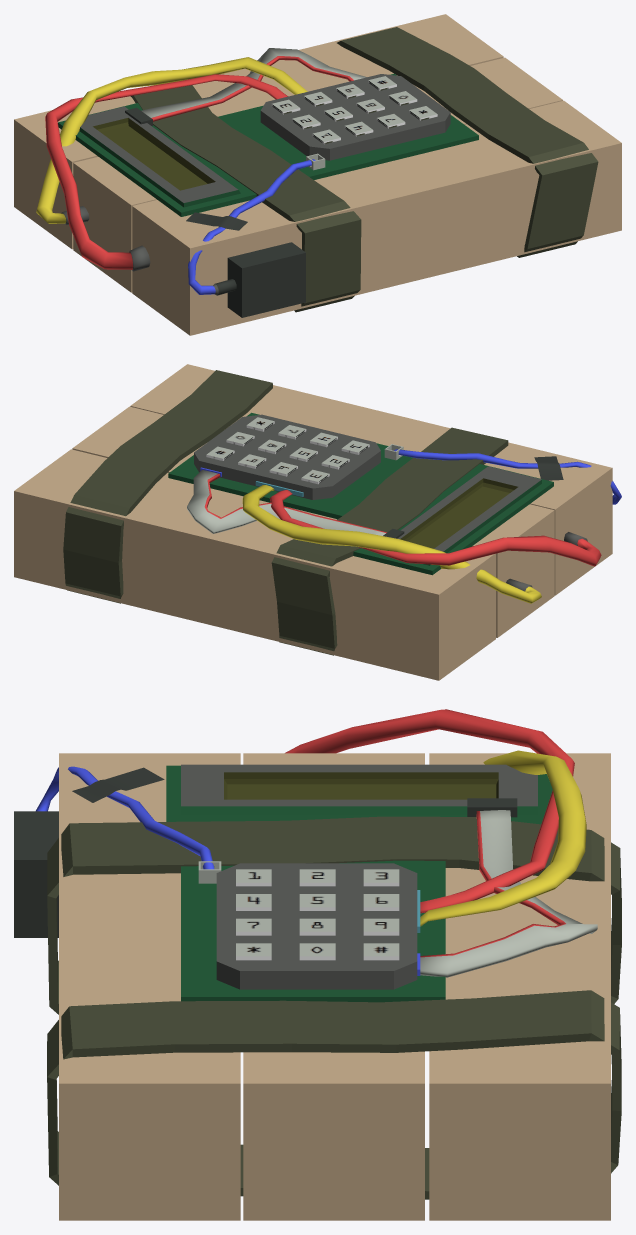
3 views of the same model, one above another, from view 1: azimuth 30°, elevation 25°; view 2: azimuth 150°, elevation 25°; view 3: azimuth 270°, elevation 25° (orthographic). The views are drawn at different scales.
Visible parts, largest first — view 1: Cube.004, Plane.002, Plane, Cylinder, Cube.003, Cylinder.001, Plane.015, Plane.003, Cylinder.002, Plane.004; view 2: Cube.004, Plane.002, Plane, Cylinder.001, Cylinder, Plane.015, Plane.003, Cylinder.002, Plane.004; view 3: Cube.004, Plane.002, Plane, Cylinder, Plane.015, Plane.003, Cylinder.001, Cube.003, Cylinder.002, Plane.004, Cube.
Boxes of the visible parts, x1,y1,x2,y2 form: Cube.004: [14, 14, 621, 335]; Plane.002: [130, 27, 598, 312]; Plane: [58, 73, 478, 216]; Cylinder: [45, 74, 287, 271]; Cube.003: [227, 242, 305, 317]; Cylinder.001: [36, 57, 307, 224]; Plane.015: [271, 76, 437, 144]; Plane.003: [141, 48, 366, 121]; Cylinder.002: [188, 159, 315, 295]; Plane.004: [186, 212, 247, 230]; Cube.004: [14, 364, 612, 680]; Plane.002: [63, 370, 508, 655]; Plane: [168, 412, 553, 575]; Cylinder.001: [242, 485, 541, 603]; Cylinder: [269, 490, 601, 566]; Plane.015: [206, 417, 369, 484]; Plane.003: [187, 470, 386, 535]; Cylinder.002: [394, 449, 621, 504]; Plane.004: [534, 456, 563, 480]; Cube.004: [59, 753, 610, 1220]; Plane.002: [47, 816, 621, 1199]; Plane: [166, 764, 552, 1002]; Cylinder: [285, 709, 574, 913]; Plane.015: [236, 869, 399, 960]; Plane.003: [420, 810, 597, 977]; Cylinder.001: [420, 750, 586, 926]; Cube.003: [14, 811, 58, 937]; Cylinder.002: [36, 766, 214, 869]; Plane.004: [72, 767, 164, 802]; Cube: [467, 798, 517, 817].
Bounding box in the file's own units: 1.3 × 0.3196 × 0.9115.
14 materials, 14 textured.
